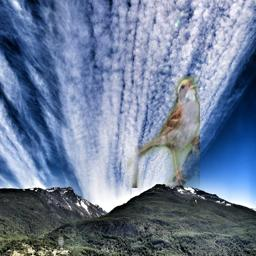Sparrow: (127, 76, 200, 188)
